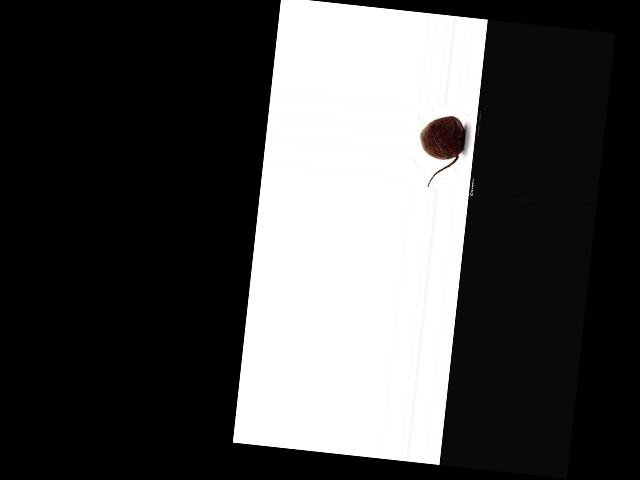beet: (415, 112, 466, 189)
